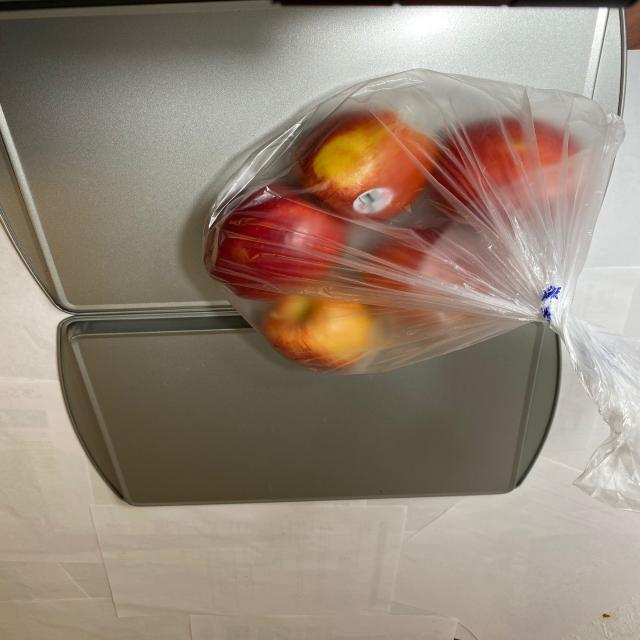apple: (200, 103, 592, 374)
